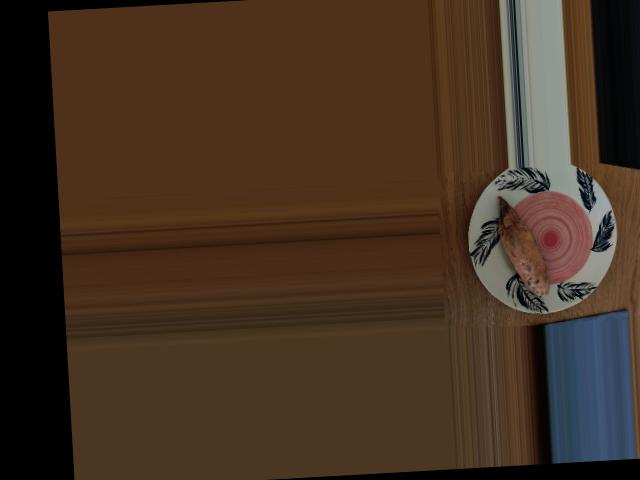sweet_potato: (496, 204, 553, 292)
